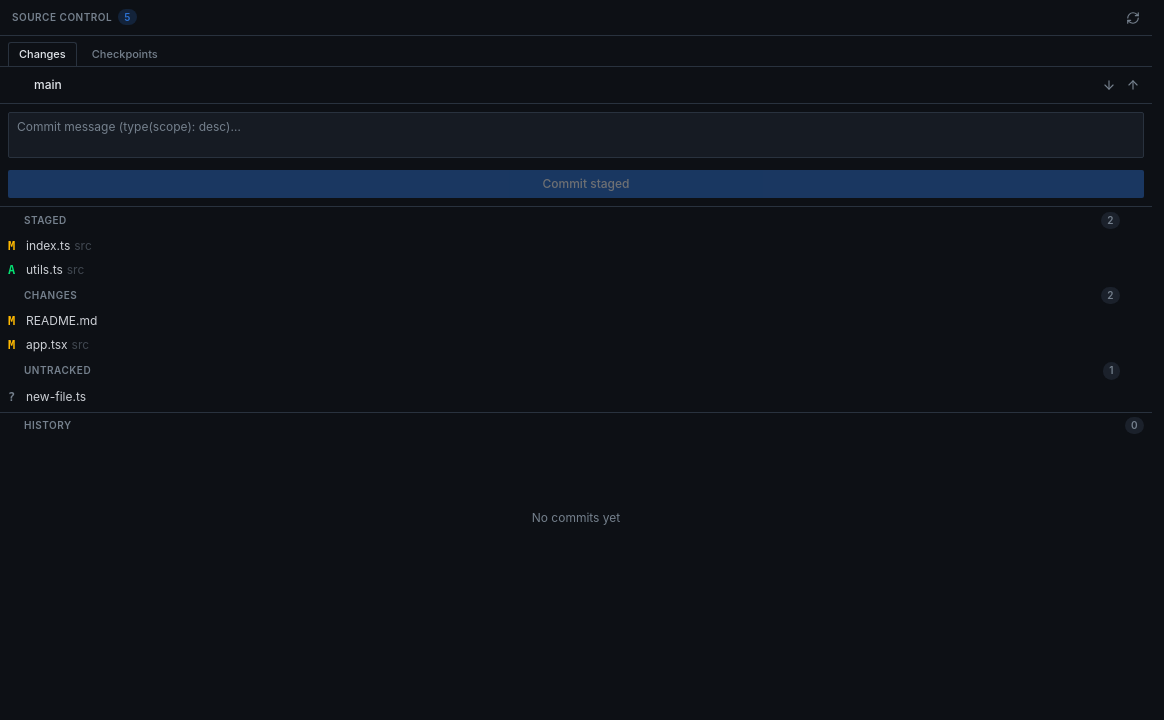
it: GitPane — Diff Preview › toggles diff off when clicking the same file again
Expected: the text "index.ts" is shown, [26,238,70,253]
# Click to open diff
What coordinates should you click on to do the following:
click the text "index.ts"
I would click on:
 (59, 246)
Its box is [26,238,92,253].
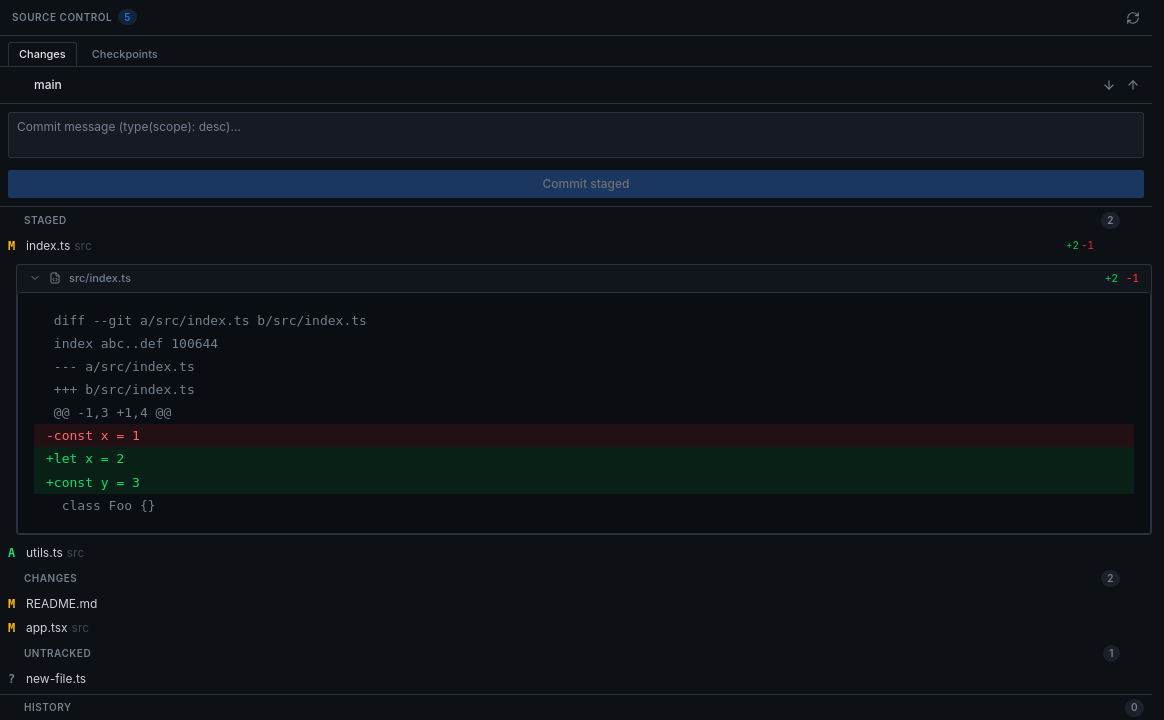
# Click again to close
What coordinates should you click on to do the following:
click the text "index.ts"
I would click on:
 (59, 246)
Its box is [26,238,92,253].
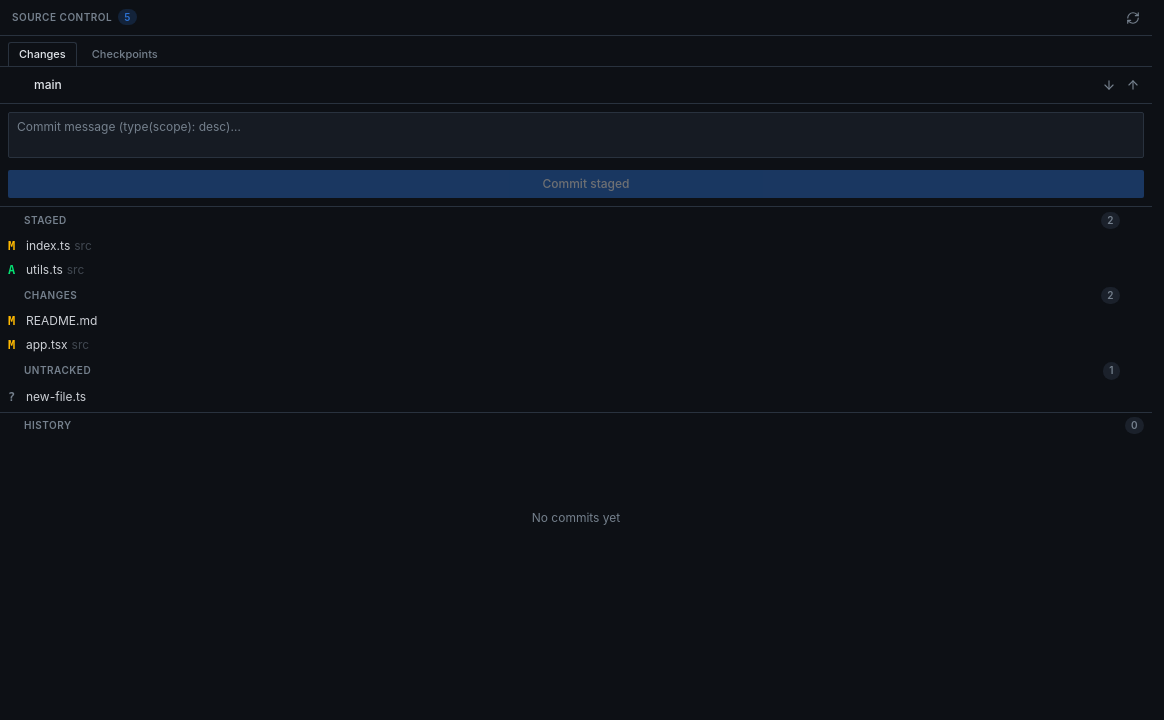
Expected: the text "+2" is not shown
